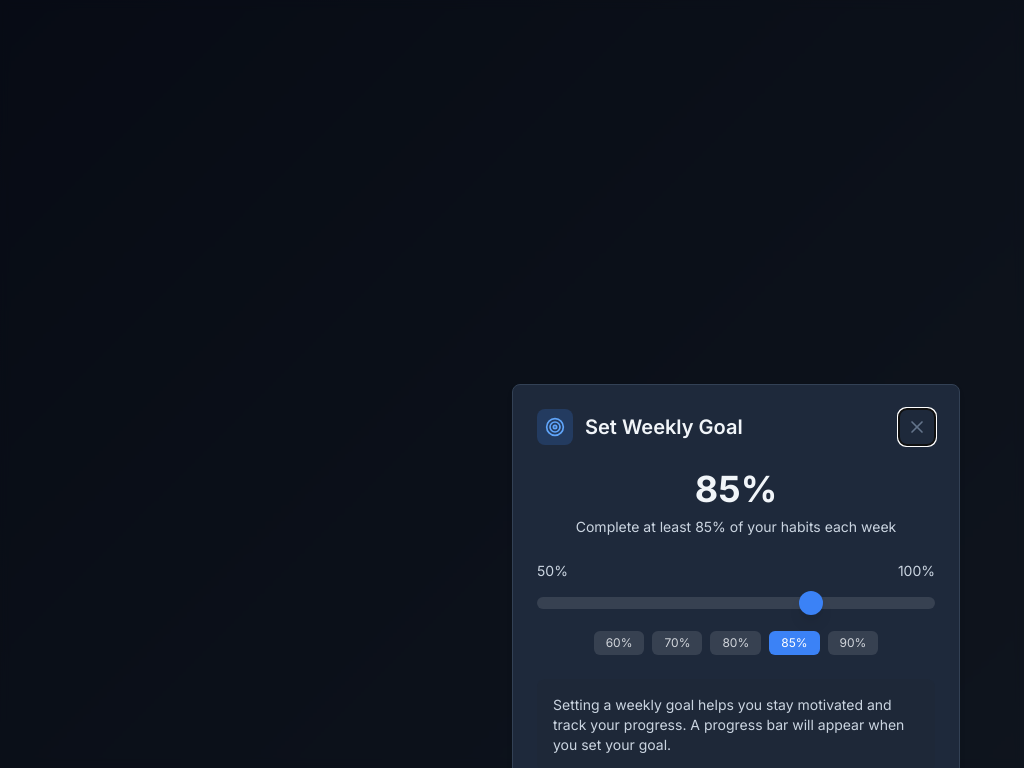
Test: WeeklyGoalModal › Goal Setting › provides preset goal buttons
The width and height of the screenshot is (1024, 768).
Click the button "80%" at (736, 643), box [710,631,761,655]
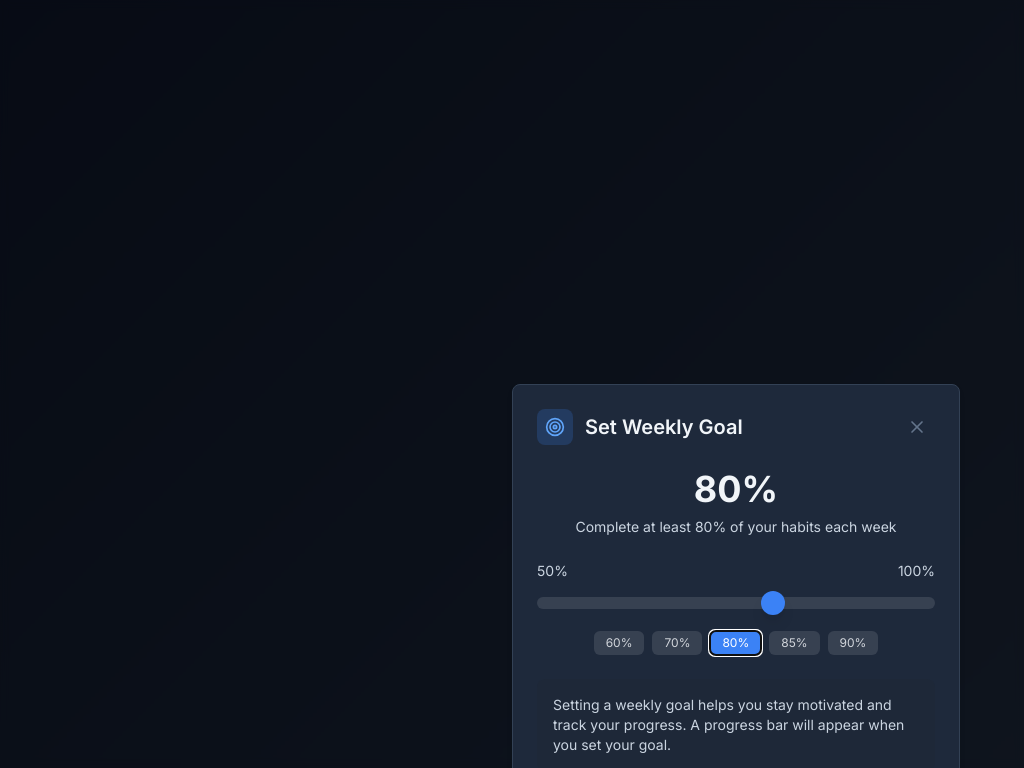
Check: the text "Complete at least 80% of your habits each week" is shown, box [576,518,896,535]
